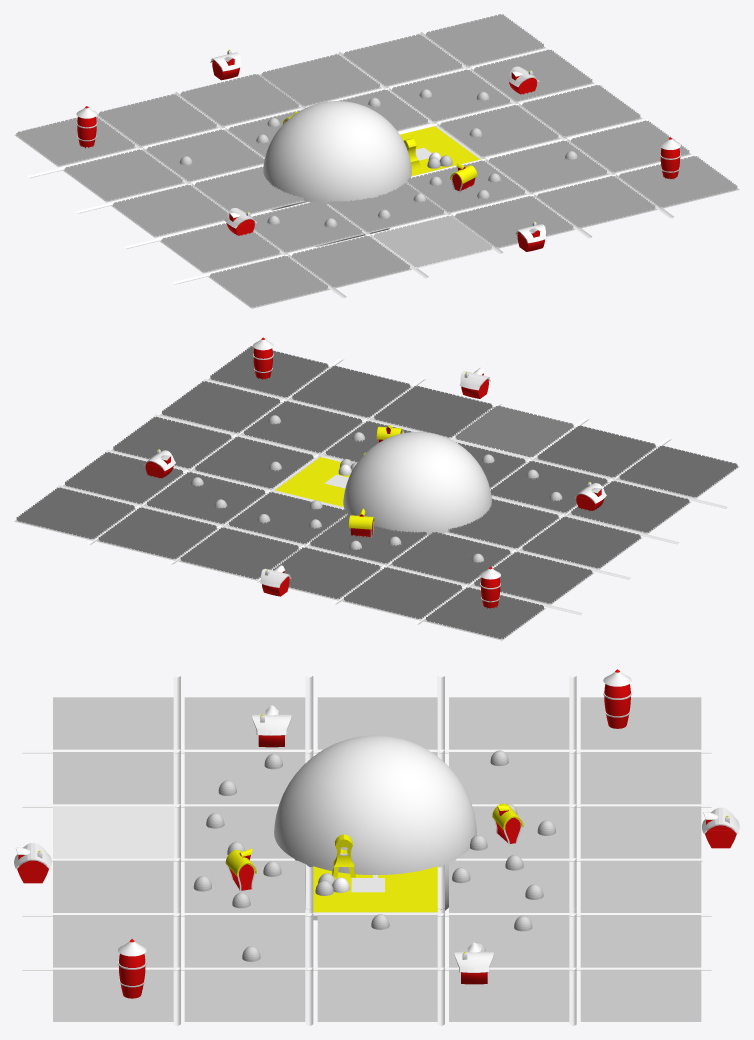
The model's file is Level2.fbx.
3 renders of one model, top to bottom at view 1: azimuth 30°, elevation 25°; view 2: azimuth 150°, elevation 25°; view 3: azimuth 270°, elevation 25°, orthographic. The views are drawn at different scales.
Visible parts, largest first — view 1: SkySphereBlueprint, BP_WheatFields_C_11, BP_WheatFields_C_28, BP_WheatFields_C_20, BP_WheatFields_C_2, BP_WheatFields_C_14, BP_WheatFields_C_19, BP_WheatFields_C_22, BP_WheatFields_C_24, BP_WheatFields_C_5, BP_WheatFields_C_7, BP_WheatFields_C_16 (+25 smaller); view 2: SkySphereBlueprint, BP_WheatFields_C_8, BP_WheatFields_C_16, BP_WheatFields_C_20, BP_WheatFields_C_22, BP_WheatFields_C_7, BP_WheatFields_C_27, BP_WheatFields_C_5, BP_WheatFields_C_2, BP_WheatFields_C_11, BP_WheatFields_C_13, BP_WheatFields_C_24 (+25 smaller); view 3: SkySphereBlueprint, BP_WheatFields_C_14, BP_WheatFields_C_22, BP_WheatFields_C_8, BP_WheatFields_C_16, BP_WheatFields_C_20, BP_WheatFields_C_24, BP_WheatFields_C_2, BP_WheatFields_C_5, BP_WheatFields_C_7, BP_WheatFields_C_13, BP_WheatFields_C_19 (+26 smaller).
Part boxes in pixels (left/top/right/bottom): SkySphereBlueprint: left=263, top=101, right=411, bottom=247; BP_WheatFields_C_11: left=535, top=175, right=657, bottom=228; BP_WheatFields_C_28: left=520, top=84, right=642, bottom=137; BP_WheatFields_C_20: left=424, top=14, right=545, bottom=67; BP_WheatFields_C_2: left=372, top=215, right=494, bottom=268; BP_WheatFields_C_14: left=178, top=74, right=300, bottom=127; BP_WheatFields_C_19: left=63, top=149, right=184, bottom=202; BP_WheatFields_C_22: left=341, top=34, right=463, bottom=87; BP_WheatFields_C_24: left=259, top=54, right=381, bottom=107; BP_WheatFields_C_5: left=290, top=235, right=412, bottom=288; BP_WheatFields_C_7: left=208, top=255, right=330, bottom=308; BP_WheatFields_C_16: left=97, top=94, right=218, bottom=147; SkySphereBlueprint: left=343, top=432, right=491, bottom=567; BP_WheatFields_C_8: left=159, top=381, right=281, bottom=434; BP_WheatFields_C_16: left=341, top=567, right=463, bottom=620; BP_WheatFields_C_20: left=14, top=487, right=136, bottom=540; BP_WheatFields_C_22: left=96, top=507, right=218, bottom=560; BP_WheatFields_C_7: left=617, top=445, right=739, bottom=498; BP_WheatFields_C_27: left=520, top=516, right=642, bottom=569; BP_WheatFields_C_5: left=535, top=425, right=657, bottom=478; BP_WheatFields_C_2: left=453, top=405, right=575, bottom=458; BP_WheatFields_C_11: left=290, top=365, right=412, bottom=418; BP_WheatFields_C_13: left=372, top=385, right=494, bottom=438; BP_WheatFields_C_24: left=178, top=527, right=300, bottom=580; SkySphereBlueprint: left=274, top=735, right=476, bottom=910; BP_WheatFields_C_14: left=580, top=806, right=701, bottom=858; BP_WheatFields_C_22: left=580, top=915, right=701, bottom=967; BP_WheatFields_C_8: left=184, top=969, right=305, bottom=1021; BP_WheatFields_C_16: left=580, top=752, right=701, bottom=804; BP_WheatFields_C_20: left=580, top=969, right=701, bottom=1021; BP_WheatFields_C_24: left=580, top=860, right=701, bottom=912; BP_WheatFields_C_2: left=53, top=806, right=173, bottom=858; BP_WheatFields_C_5: left=53, top=752, right=173, bottom=804; BP_WheatFields_C_7: left=53, top=697, right=173, bottom=749; BP_WheatFields_C_13: left=53, top=860, right=173, bottom=912; BP_WheatFields_C_19: left=449, top=697, right=569, bottom=749.
Bounding box in the file's own units: 33215 × 29238 × 8192.
